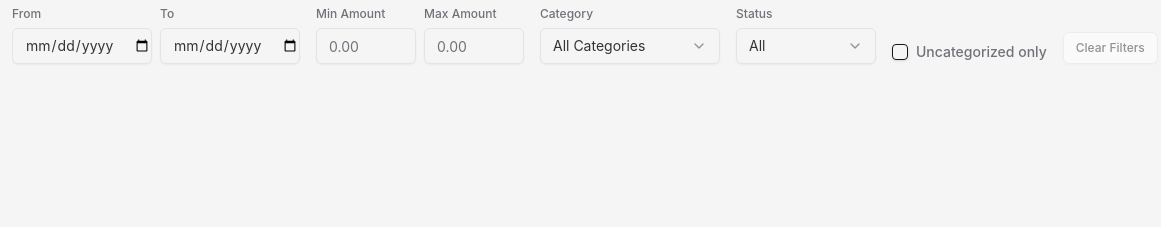
Scenario: TransactionFilters › Category dropdown › populates with provided categories
Click the dropdown named "Category": {"x": 630, "y": 46} [540, 28, 720, 64]
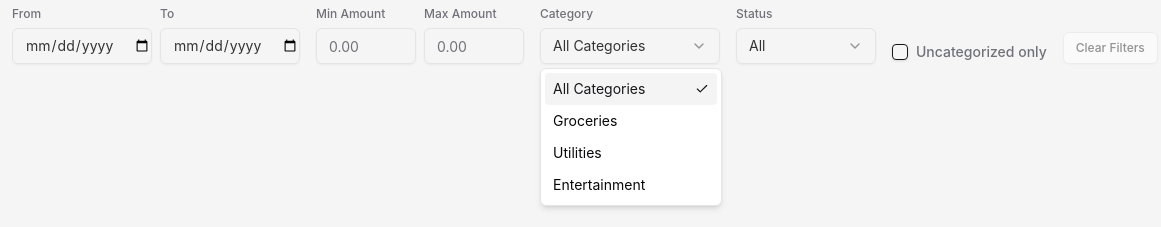
Expected: the option "All Categories" is shown, [545, 73, 717, 105]
Expected: the option "Groceries" is shown, [553, 112, 617, 129]
Expected: the option "Utilities" is shown, [553, 144, 602, 161]
